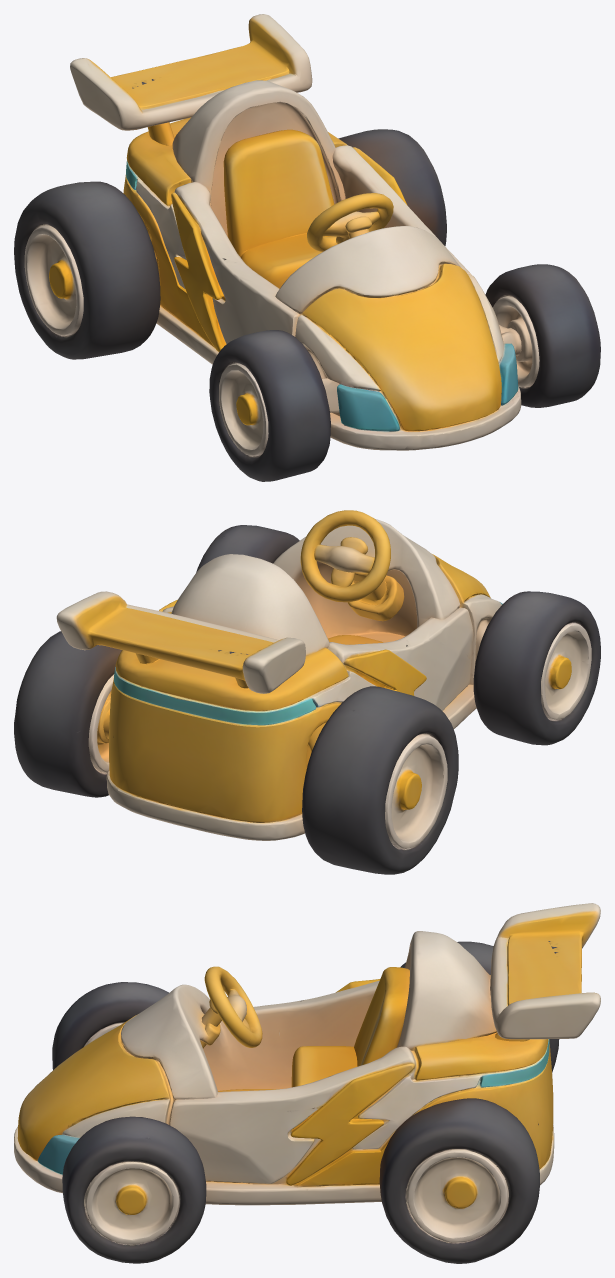
Rendered from bolt-cartoon-decimated.glb.
3 views of the same model, one above another, from view 1: azimuth 30°, elevation 25°; view 2: azimuth 150°, elevation 25°; view 3: azimuth 270°, elevation 25° (orthographic). The views are drawn at different scales.
Visible parts, largest first — view 1: model; view 2: model; view 3: model.
Boxes of the visible parts, bbox=[...] form: model: bbox=[14, 14, 600, 481]; model: bbox=[14, 510, 600, 874]; model: bbox=[14, 903, 600, 1263].
Bounding box in the file's own units: 1.36 × 0.888 × 1.9.
Materials: 1 (1 with a texture image).
